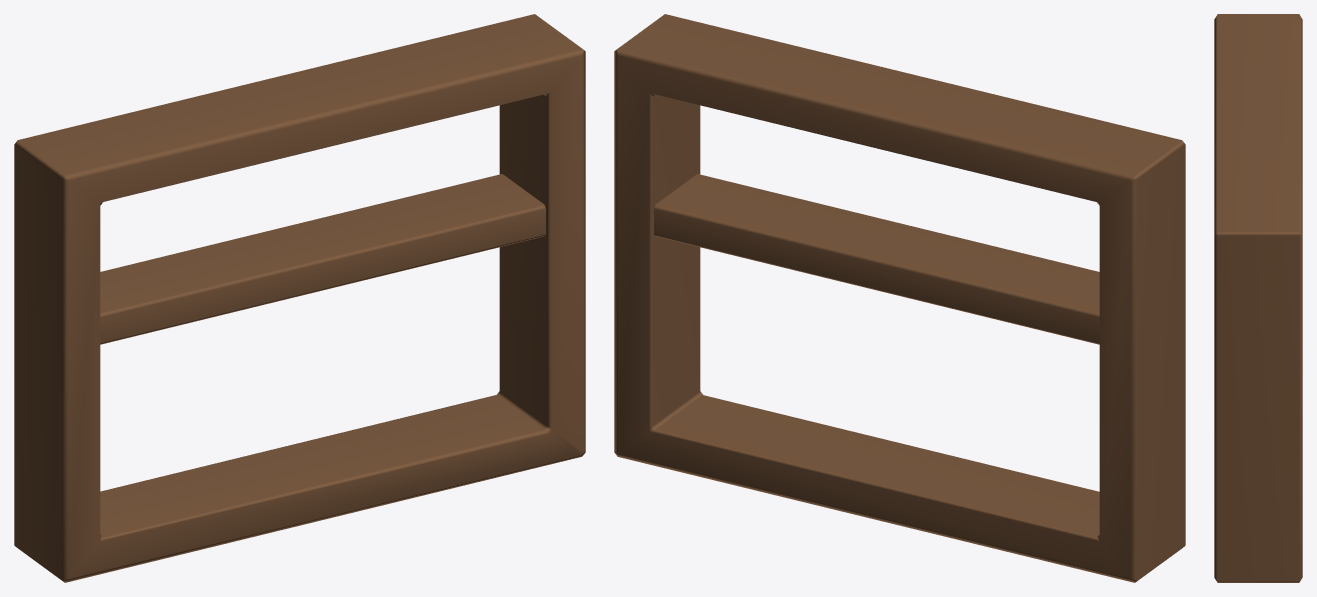
Rendered from Shelf_3.glb.
The picture shows the model from 3 angles, left to right: view 1: azimuth 30°, elevation 25°; view 2: azimuth 150°, elevation 25°; view 3: azimuth 270°, elevation 25°; orthographic projection. The views are drawn at different scales.
Visible parts, largest first — view 1: Shelf_3; view 2: Shelf_3; view 3: Shelf_3.
Boxes of the visible parts, x1,y1,x2,y2 form: Shelf_3: (14,14,585,582); Shelf_3: (614,14,1185,582); Shelf_3: (1214,14,1302,582).
Size of the model in its own units: 1.61 by 1.2 by 0.2722.
1 material, 1 textured.
